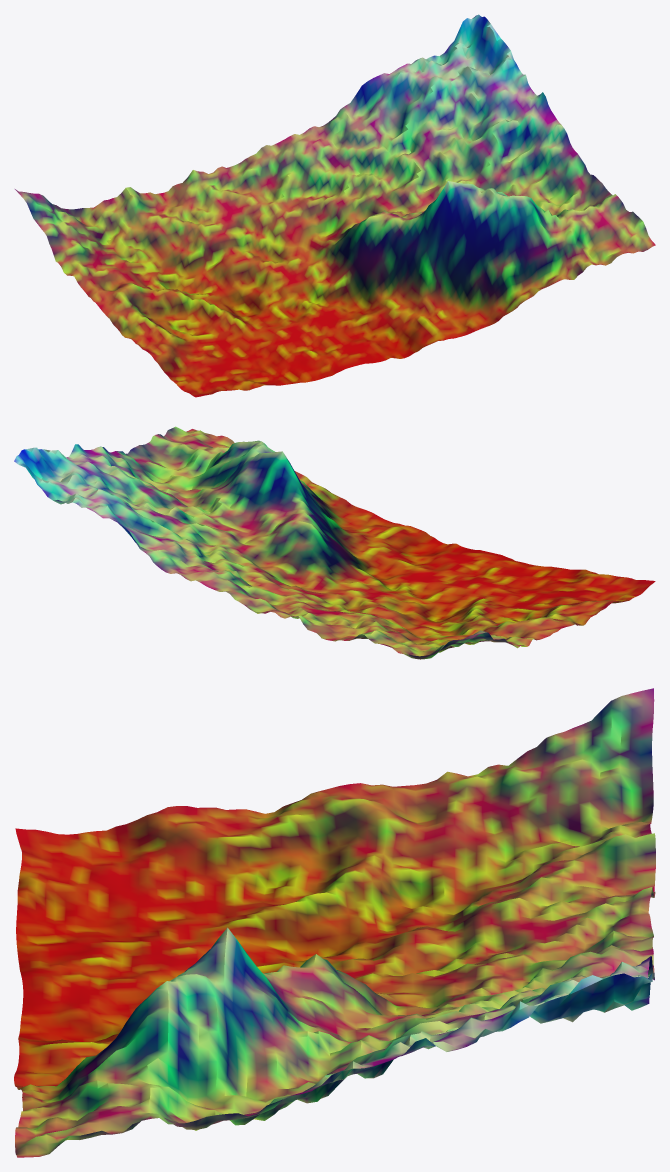
Rendered from ENV_MainMenuCavernDiorama.fbx.
3 views of the same model, one above another, from view 1: azimuth 30°, elevation 25°; view 2: azimuth 150°, elevation 25°; view 3: azimuth 270°, elevation 25° (orthographic). The views are drawn at different scales.
Visible parts, largest first — view 1: ENV_MainMenuCavernDiorama_LOD0; view 2: ENV_MainMenuCavernDiorama_LOD0; view 3: ENV_MainMenuCavernDiorama_LOD0.
Part boxes in pixels (<box>): ENV_MainMenuCavernDiorama_LOD0: <box>15,14,655,397</box>; ENV_MainMenuCavernDiorama_LOD0: <box>14,426,655,659</box>; ENV_MainMenuCavernDiorama_LOD0: <box>14,688,655,1157</box>.
Size of what is drawn, in the model's own units: 3028 by 970 by 2032.
